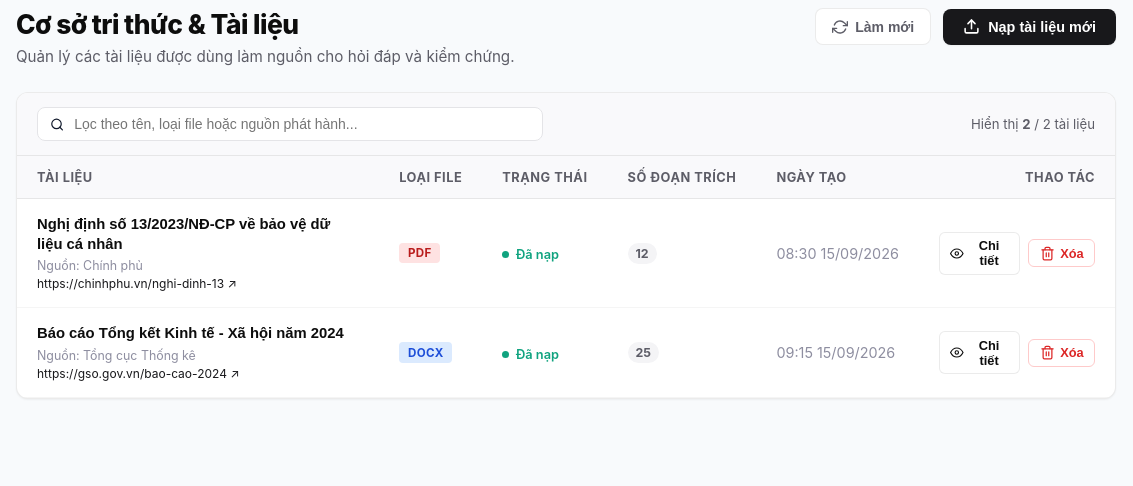
Test: Documents & Knowledge Base Feature (FE-04.5A) › 3. Document Detail & Chunk Viewer › handles 404 error when opening non-existent document detail
What coordinates should you click on to do the following:
click the button with test id "btn-view-doc-doc-uuid-001"
I would click on:
 (980, 253)
Its box is [939, 232, 1020, 275].
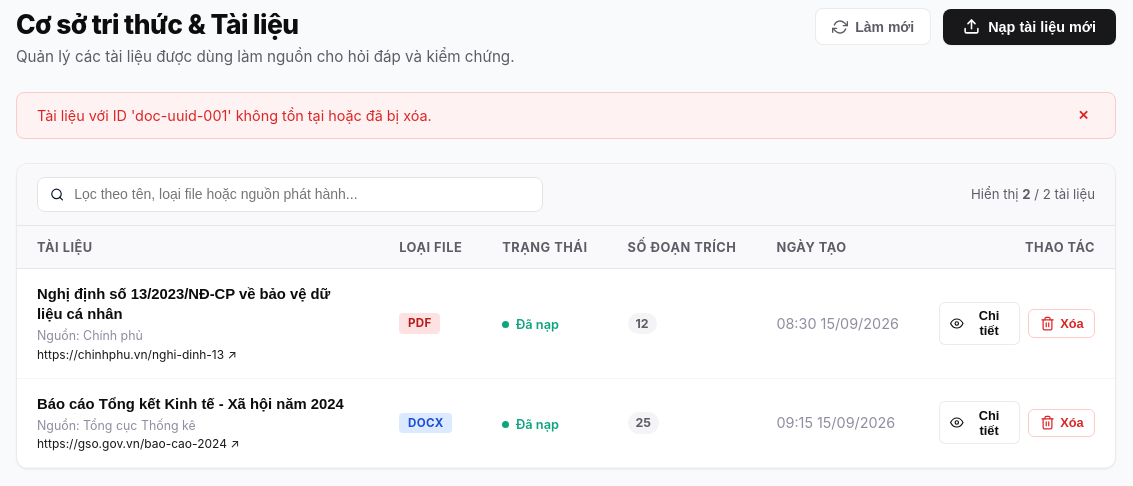
Expected: the message "Tài liệu với ID 'doc-uuid-001' không tồn tại hoặc đã bị xóa. ✕" is shown, [16, 92, 1116, 139]
Expected: the text "Tài liệu với ID 'doc-uuid-001' không tồn tại hoặc đã bị xóa." is shown, [37, 107, 432, 124]
